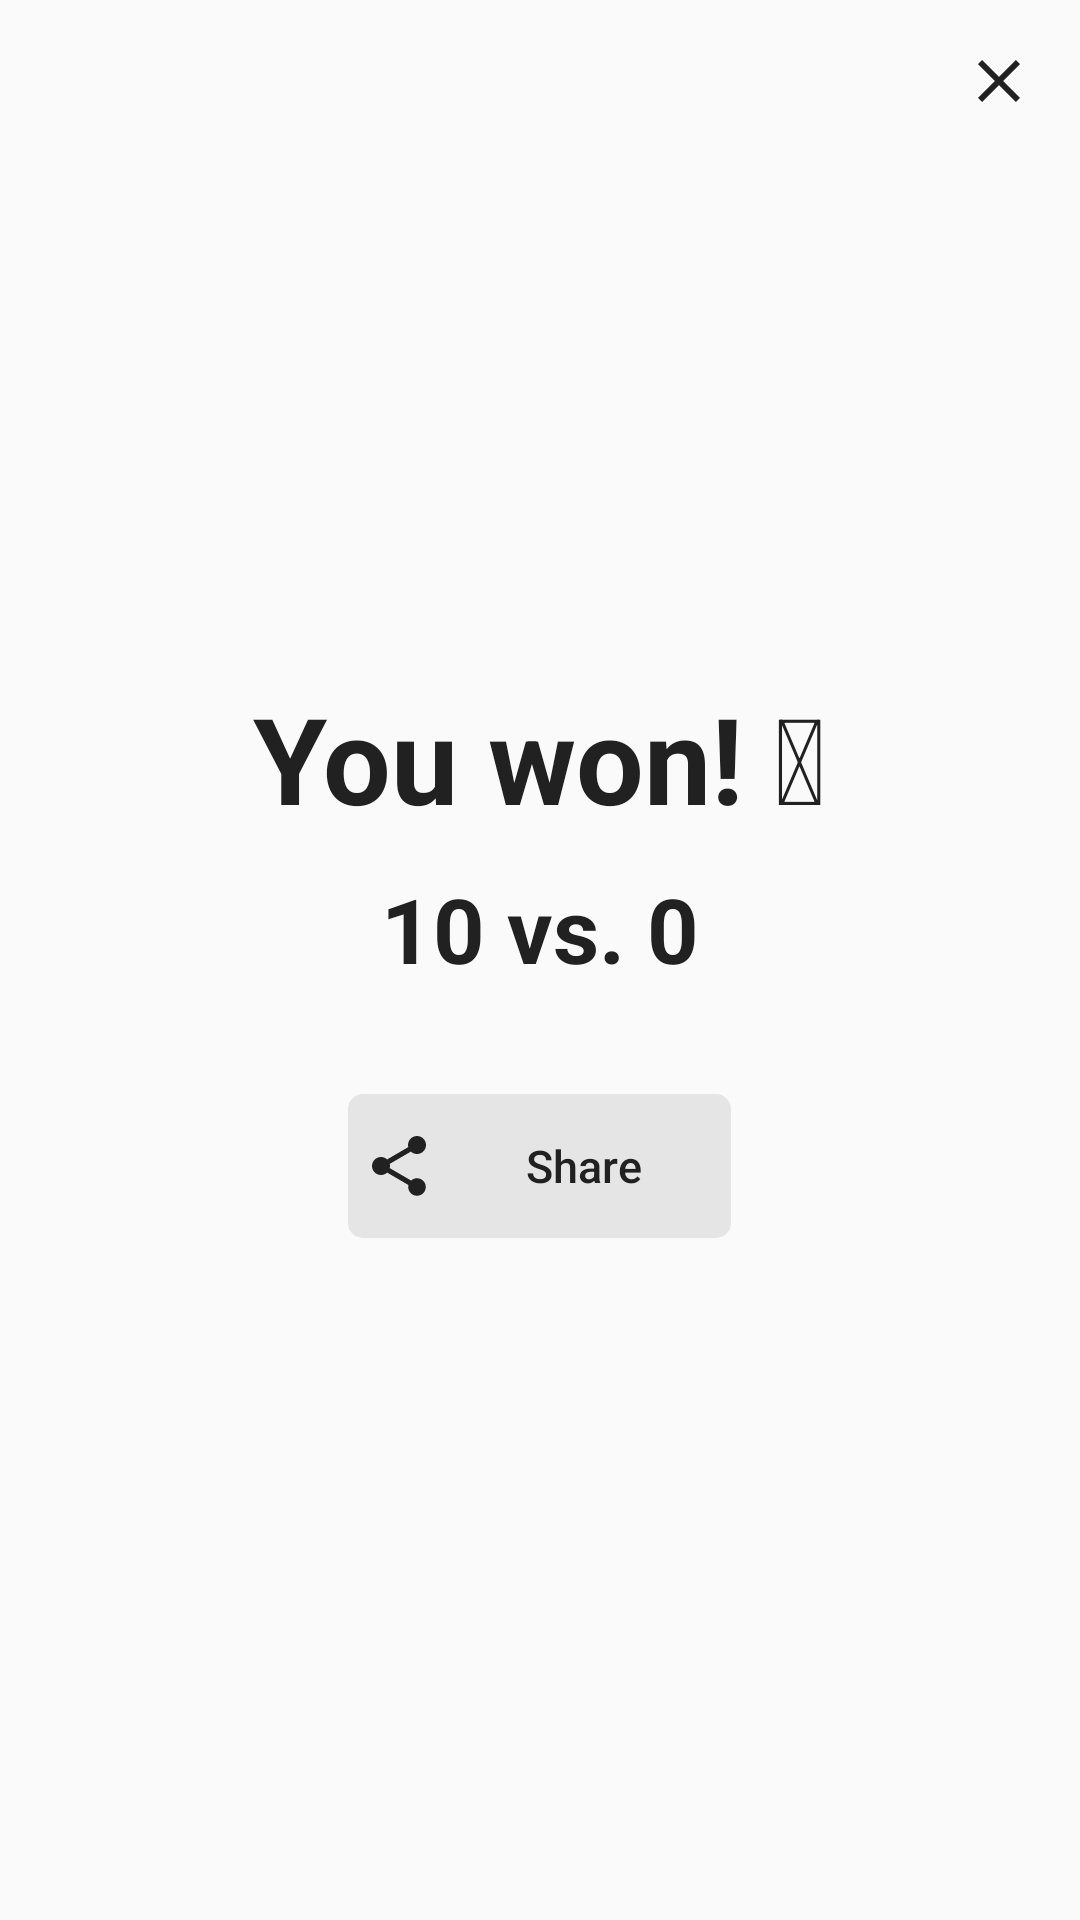

Where icons sit on this 1080*1920 app screen, as region(x1, y1, x2, y2):
clear: region(978, 60, 1020, 102)
